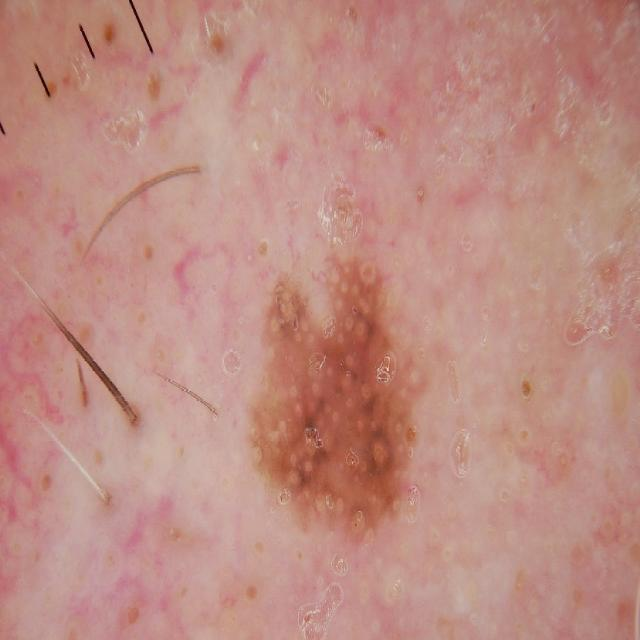Melanoma: (218, 224, 467, 482), (457, 17, 640, 316), (0, 556, 185, 640)
